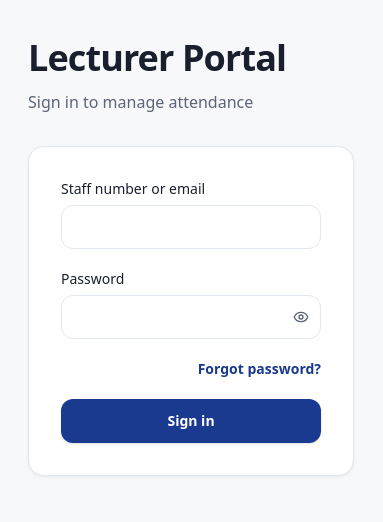
Test: lecturer portal › redirects unauthenticated users to login and rejects bad credentials
expect the heading "Lecturer Portal" is shown: met, box x1=28 y1=33 x2=286 y2=82
Type "LEC00123" into the field labelled "Staff number or email" at (191, 227), box x1=61 y1=205 x2=321 y2=249
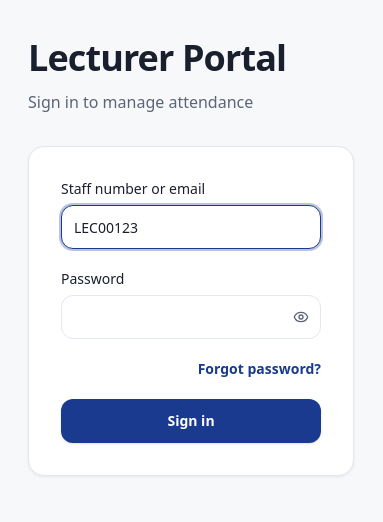
Type "wrong" into the password field labelled "Password" at (191, 317), box x1=61 y1=295 x2=321 y2=339
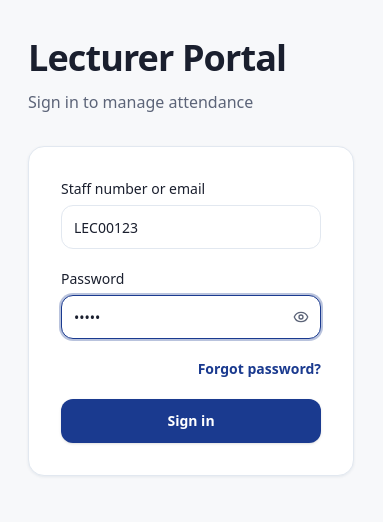
Click the button "Sign in" at (191, 421), box x1=61 y1=399 x2=321 y2=443
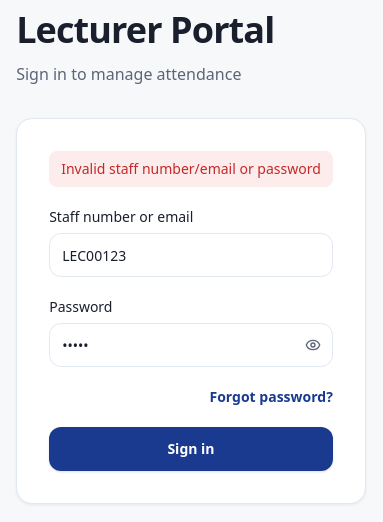
expect the message shows "Invalid": met, box x1=61 y1=159 x2=321 y2=178
